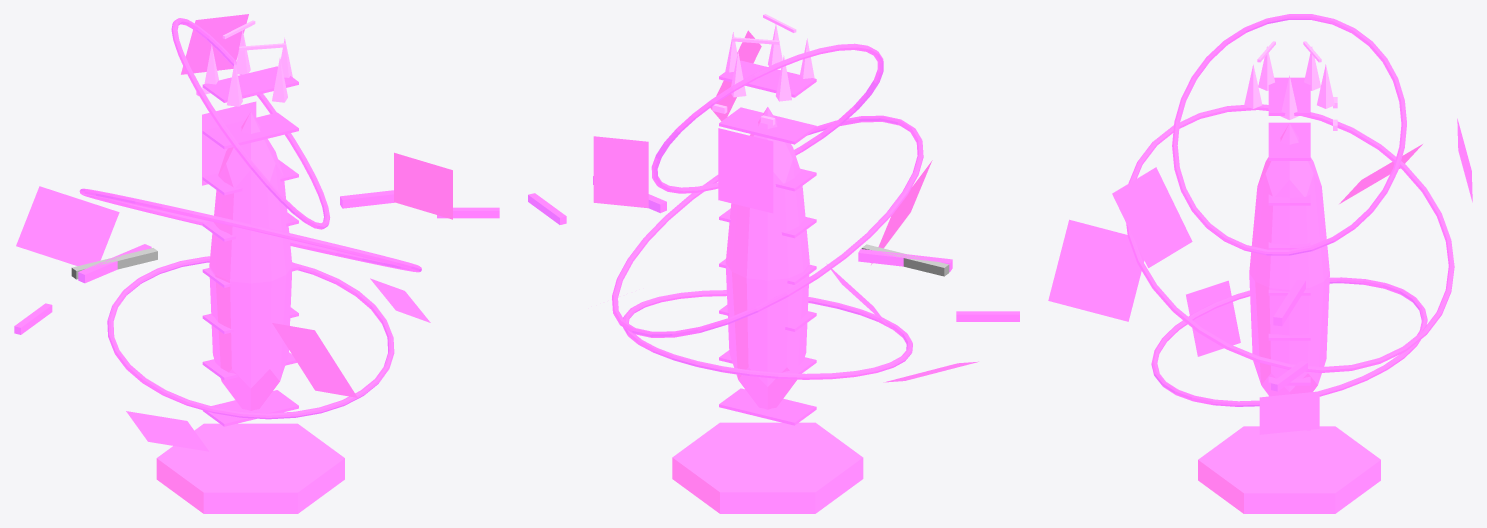
Rendered from system_prompt_boss.glb.
3 renders of one model, left to right at view 1: azimuth 30°, elevation 25°; view 2: azimuth 150°, elevation 25°; view 3: azimuth 270°, elevation 25°, orthographic. The views are drawn at different scales.
Parts seen in each view (by area): view 1: CentralPrism, BasePlatform, TextPage_1, RuneRing_0, RuneRing_1, RuneRing_2, TextPage_2, TextPage_5, TextPage_4, TextPage_3, InstructionLine_6, FaceScreen (+8 smaller); view 2: CentralPrism, BasePlatform, RuneRing_1, FaceScreen, TextPage_4, RuneRing_0, RuneRing_2, InstructionLine_6, InstructionLine_0, InstructionLine_7, TextPage_5, Arm_L.001 (+3 smaller); view 3: CentralPrism, BasePlatform, TextPage_5, RuneRing_1, RuneRing_2, TextPage_2, RuneRing_0, TextPage_3, TextPage_0, InstructionLine_6, InstructionLine_7, Arm_R (+2 smaller).
Boxes of the visible parts, box(x1,y1,x2,y2) form: CentralPrism: box(209, 112, 292, 410); BasePlatform: box(156, 423, 344, 513); TextPage_1: box(16, 186, 119, 265); RuneRing_0: box(107, 256, 394, 419); RuneRing_1: box(79, 188, 421, 272); RuneRing_2: box(171, 18, 330, 229); TextPage_2: box(394, 152, 452, 219); TextPage_5: box(272, 323, 357, 397); TextPage_4: box(181, 14, 248, 74); TextPage_3: box(126, 411, 208, 451); InstructionLine_6: box(202, 112, 298, 149); FaceScreen: box(202, 101, 256, 185); CentralPrism: box(725, 107, 809, 409); BasePlatform: box(672, 422, 863, 513); RuneRing_1: box(612, 115, 923, 337); FaceScreen: box(718, 128, 773, 213); TextPage_4: box(593, 136, 648, 208); RuneRing_0: box(623, 290, 912, 379); RuneRing_2: box(651, 43, 883, 193); InstructionLine_6: box(719, 107, 816, 144); InstructionLine_0: box(719, 388, 816, 425); InstructionLine_7: box(719, 60, 816, 97); TextPage_5: box(871, 160, 932, 264); Arm_L.001: box(858, 249, 952, 271); CentralPrism: box(1249, 123, 1329, 396); BasePlatform: box(1198, 426, 1380, 513); TextPage_5: box(1048, 219, 1144, 321); RuneRing_1: box(1126, 104, 1454, 372); RuneRing_2: box(1172, 14, 1406, 255); TextPage_2: box(1112, 167, 1192, 267); RuneRing_0: box(1151, 277, 1427, 406); TextPage_3: box(1186, 280, 1240, 356); TextPage_0: box(1259, 391, 1319, 434); InstructionLine_6: box(1268, 122, 1310, 160); InstructionLine_7: box(1268, 77, 1310, 115); Arm_R: box(1273, 279, 1305, 326).
Size of the model in its own units: 7.14 by 6.33 by 5.57.
